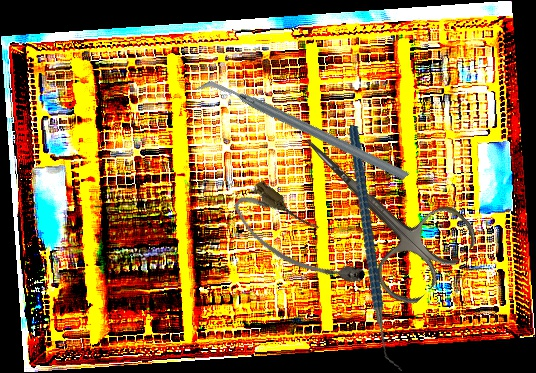Cannula: (225, 176, 373, 307)
Chopper: (193, 17, 412, 245), (305, 124, 447, 372)
Iris Scissors: (270, 100, 484, 313)
